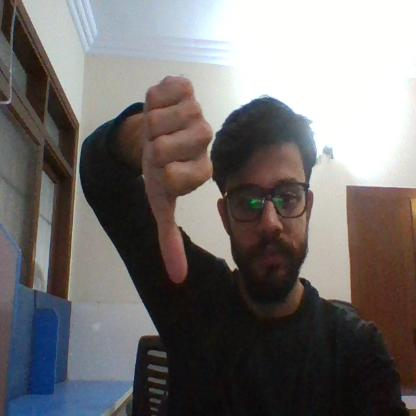thumbs-down: (138, 76, 215, 285)
